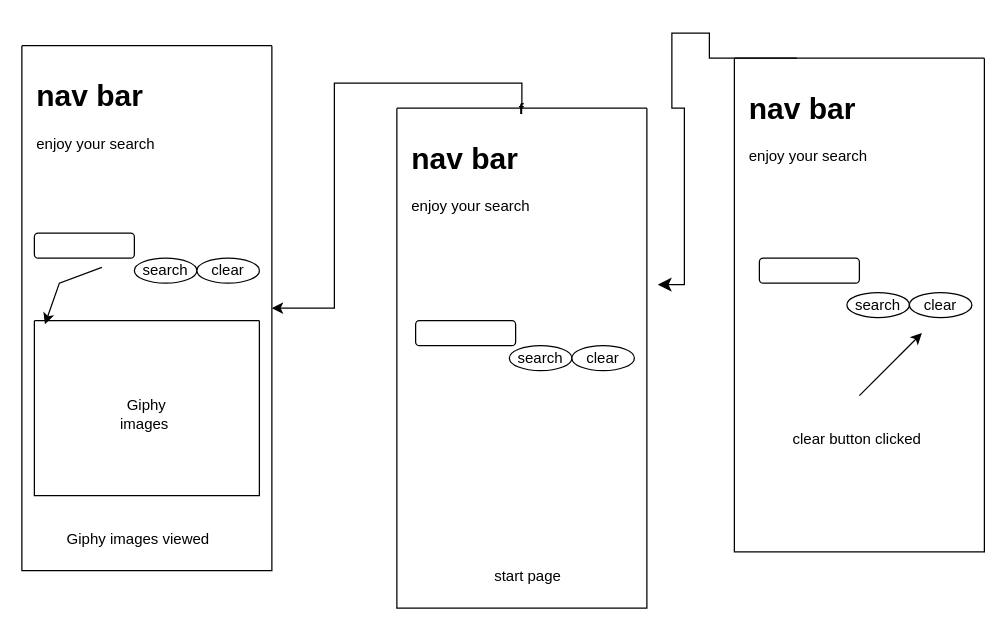
This 1006x630 diagram has some shape labels left out. Each missing label, with the centre of its shape:
LOL: point (83, 245)
type in word: point (465, 332)
